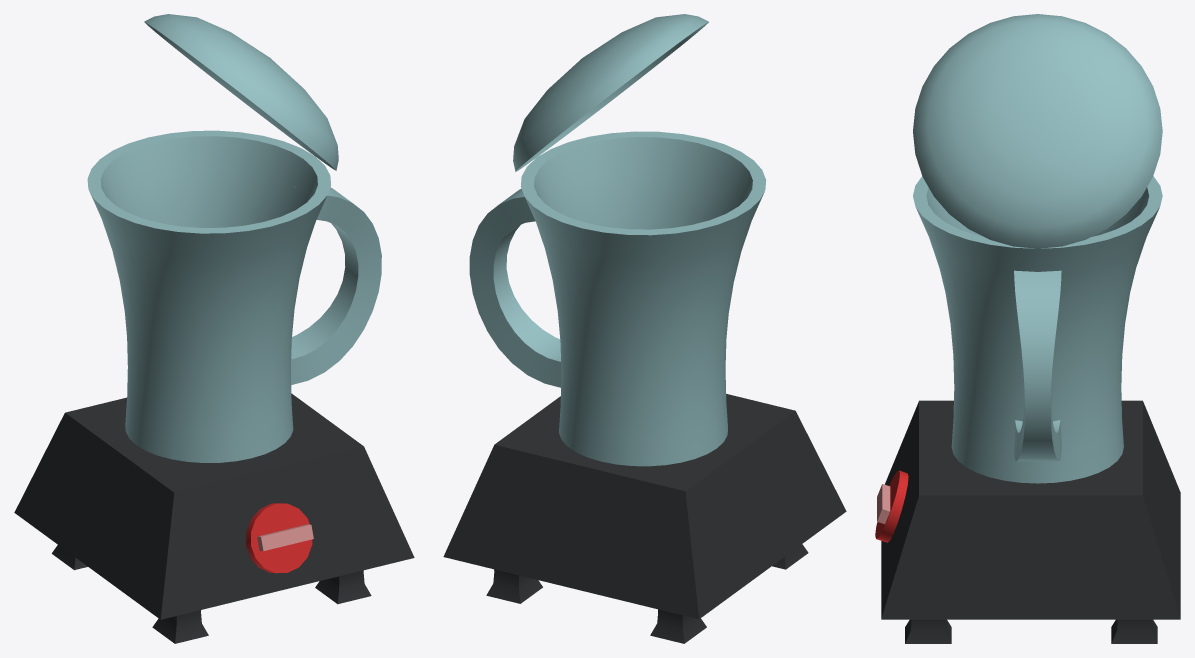
The model's file is 3D_Blender.FBX.
The picture shows the model from 3 angles, left to right: view 1: azimuth 30°, elevation 25°; view 2: azimuth 150°, elevation 25°; view 3: azimuth 270°, elevation 25°; orthographic projection. The views are drawn at different scales.
Parts seen in each view (by area): view 1: 3D_Blender; view 2: 3D_Blender; view 3: 3D_Blender.
Boxes of the visible parts, x1,y1,x2,y2 form: 3D_Blender: (14,14,414,643); 3D_Blender: (443,14,846,643); 3D_Blender: (875,14,1180,643).
Size of the model in its own units: 82.1 by 148 by 72.88.
